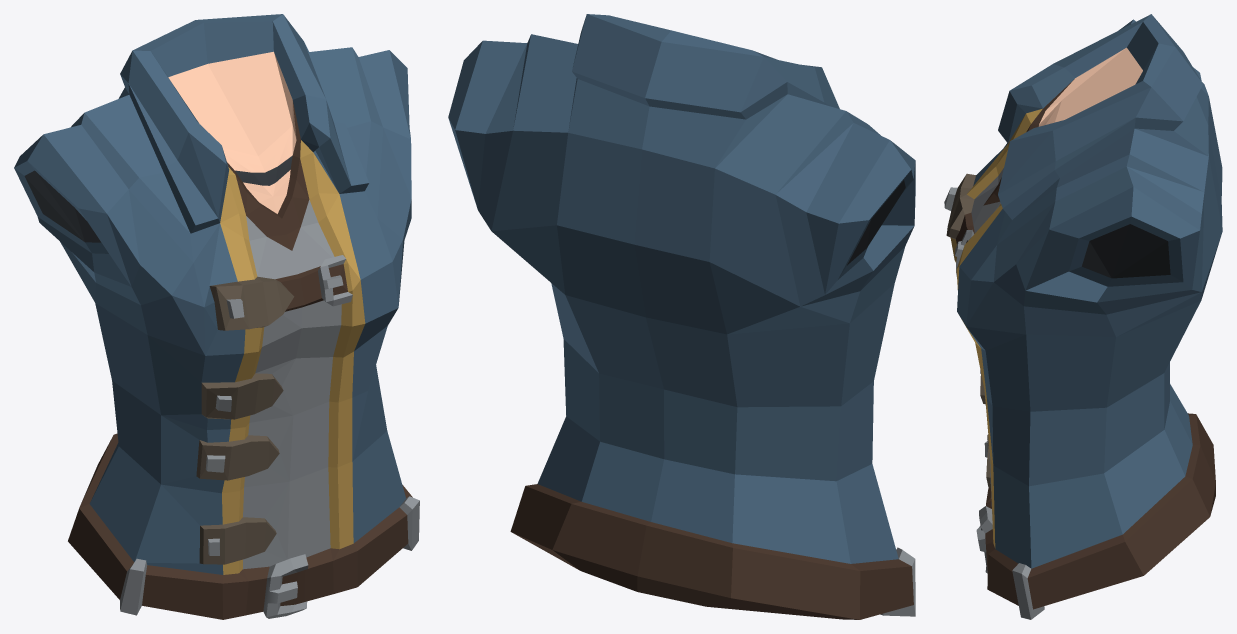
File: Chr_Torso_Female_03_Static.fbx
3 renders of one model, left to right at view 1: azimuth 30°, elevation 25°; view 2: azimuth 150°, elevation 25°; view 3: azimuth 270°, elevation 25°, orthographic. The views are drawn at different scales.
Parts seen in each view (by area): view 1: Chr_Torso_Female_03_Static; view 2: Chr_Torso_Female_03_Static; view 3: Chr_Torso_Female_03_Static.
Boxes of the visible parts, left/top/right/bottom form: Chr_Torso_Female_03_Static: left=14, top=14, right=419, bottom=619; Chr_Torso_Female_03_Static: left=448, top=14, right=915, bottom=619; Chr_Torso_Female_03_Static: left=944, top=14, right=1222, bottom=619.
Bounding box in the file's own units: 0.5172 × 0.6926 × 0.3305.
